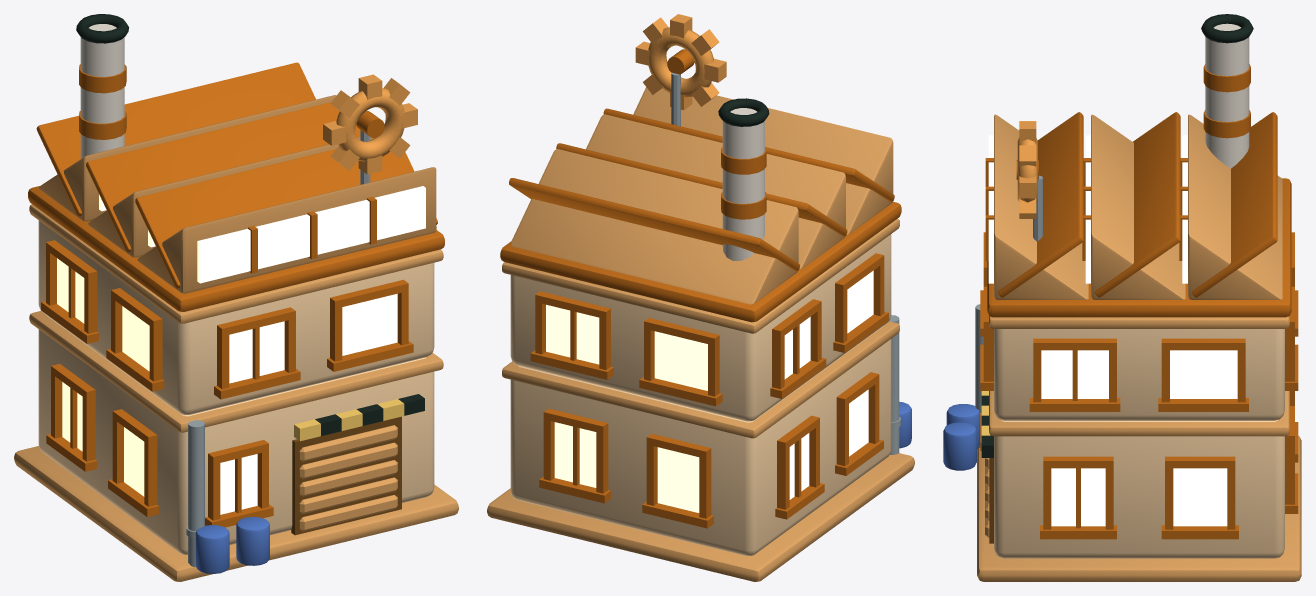
The model's file is bld_machi.glb.
3 renders of one model, left to right at view 1: azimuth 30°, elevation 25°; view 2: azimuth 150°, elevation 25°; view 3: azimuth 270°, elevation 25°, orthographic. The views are drawn at different scales.
Visible parts, largest first — view 1: Roof, Base, Floor; view 2: Roof, Base, Floor; view 3: Roof, Base, Floor.
Part boxes in pixels (x1,y1,x2,y2): Roof: (28,14,444,311); Base: (14,311,458,581); Floor: (29,204,443,414); Roof: (500,14,901,322); Base: (487,315,914,581); Floor: (502,218,899,421); Roof: (985,14,1291,317); Base: (943,304,1301,581); Floor: (980,232,1298,420).
Bounding box in the file's own units: 0.96 × 1.57 × 1.06.
